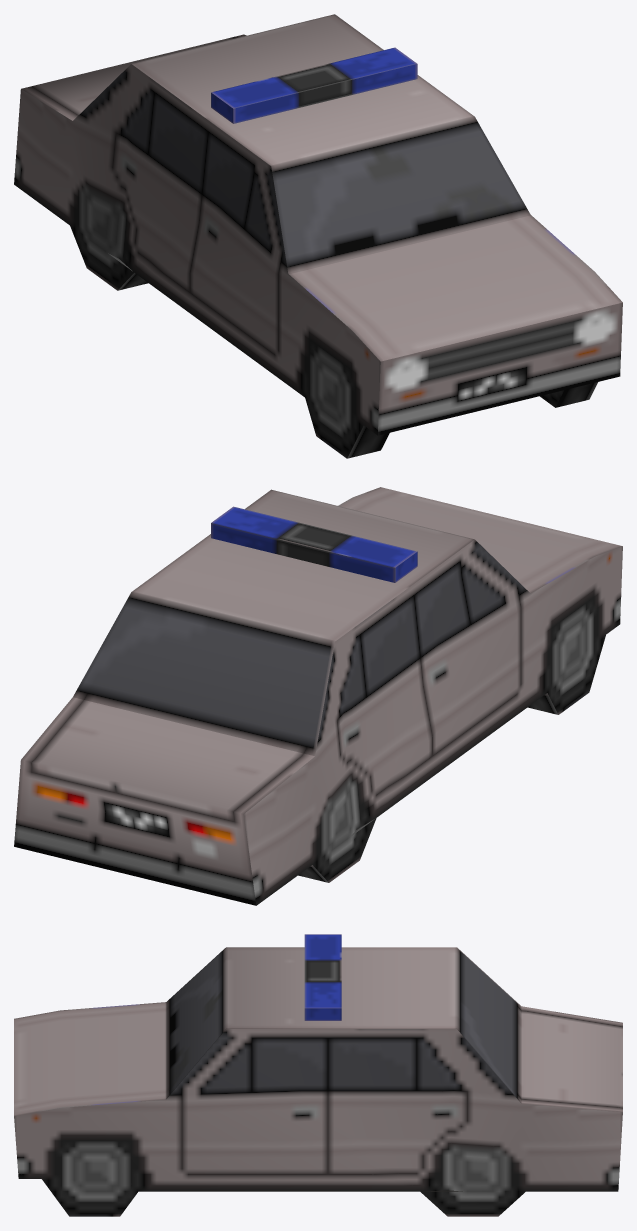
Rendered from vaz_police.obj.
The picture shows the model from 3 angles, top to bottom: view 1: azimuth 30°, elevation 25°; view 2: azimuth 150°, elevation 25°; view 3: azimuth 270°, elevation 25°; orthographic projection. The views are drawn at different scales.
Parts seen in each view (by area): view 1: Regroup01; view 2: Regroup01; view 3: Regroup01.
Boxes of the visible parts, x1,y1,x2,y2 form: Regroup01: (14,14,622,458); Regroup01: (14,487,622,905); Regroup01: (14,934,622,1216).
Size of the model in its own units: 50 by 47 by 132.
Materials: 1 (1 with a texture image).
